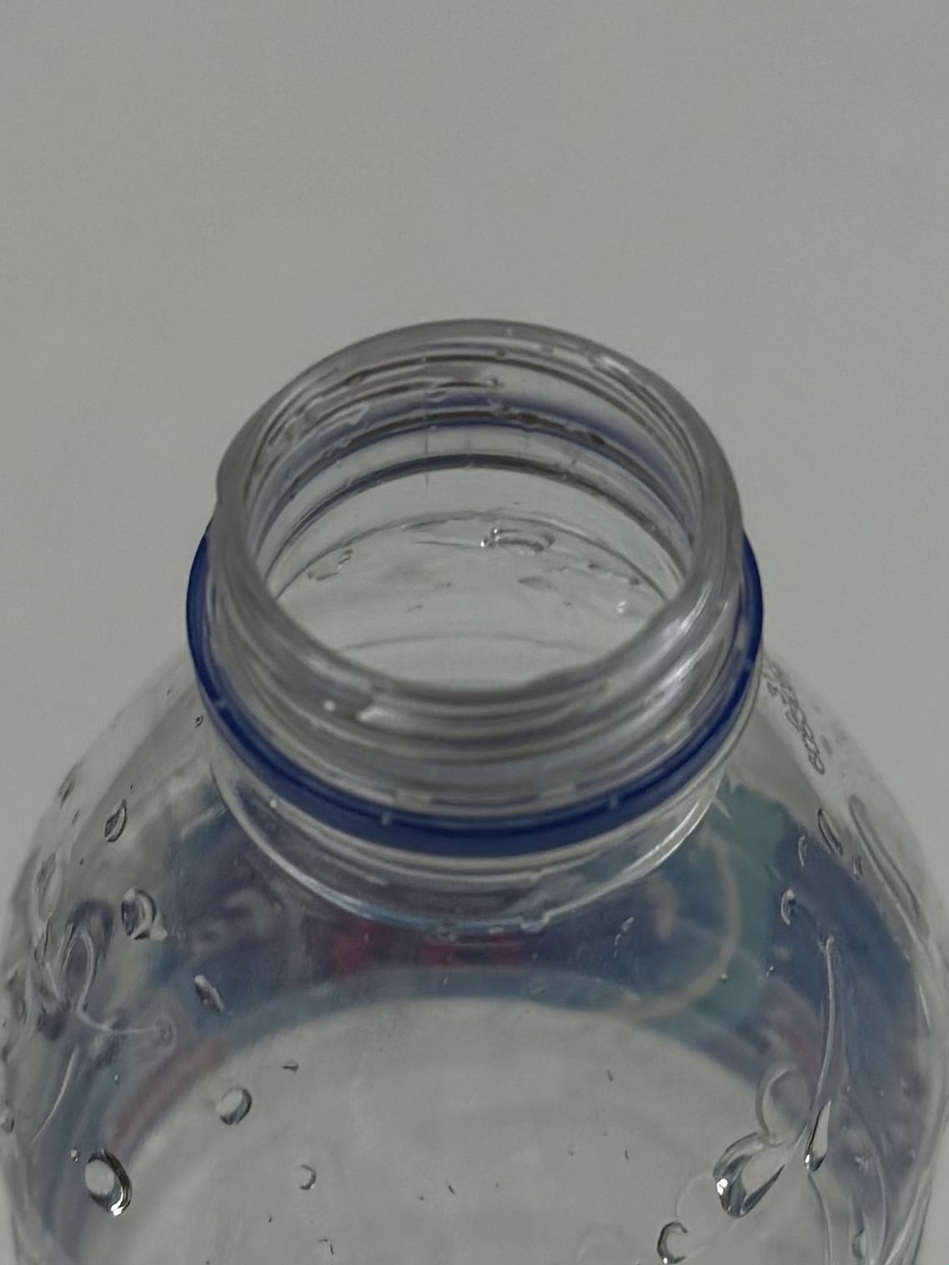no_cap: (182, 311, 777, 932)
